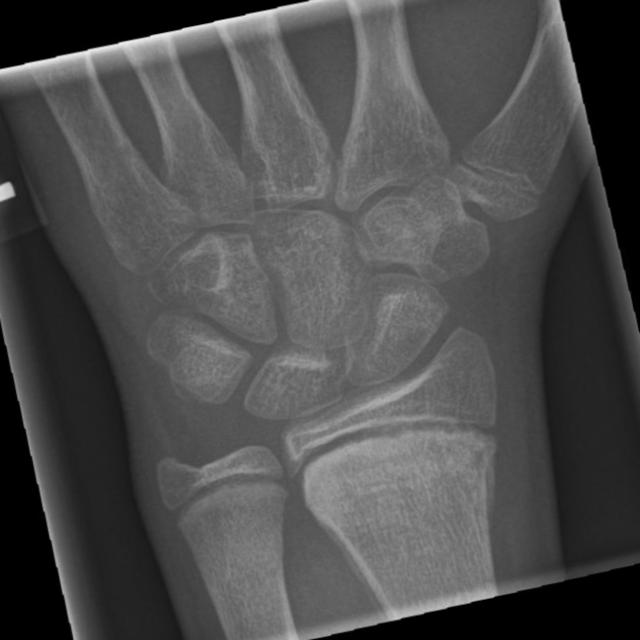fracture: (276, 386, 526, 498), (146, 443, 304, 541)
